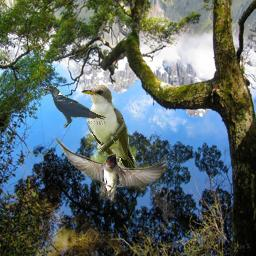Crow: (42, 85, 106, 128)
Cuckoo: (81, 84, 144, 183)
Swallow: (53, 136, 168, 205)
